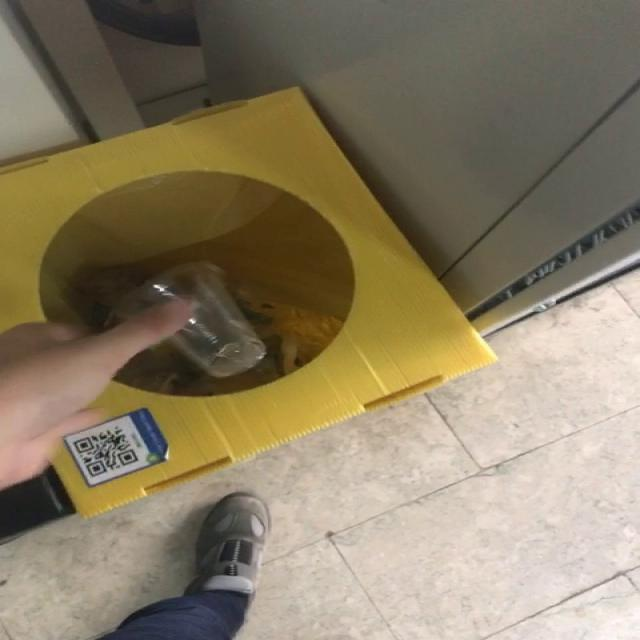plastic: (112, 262, 265, 378)
